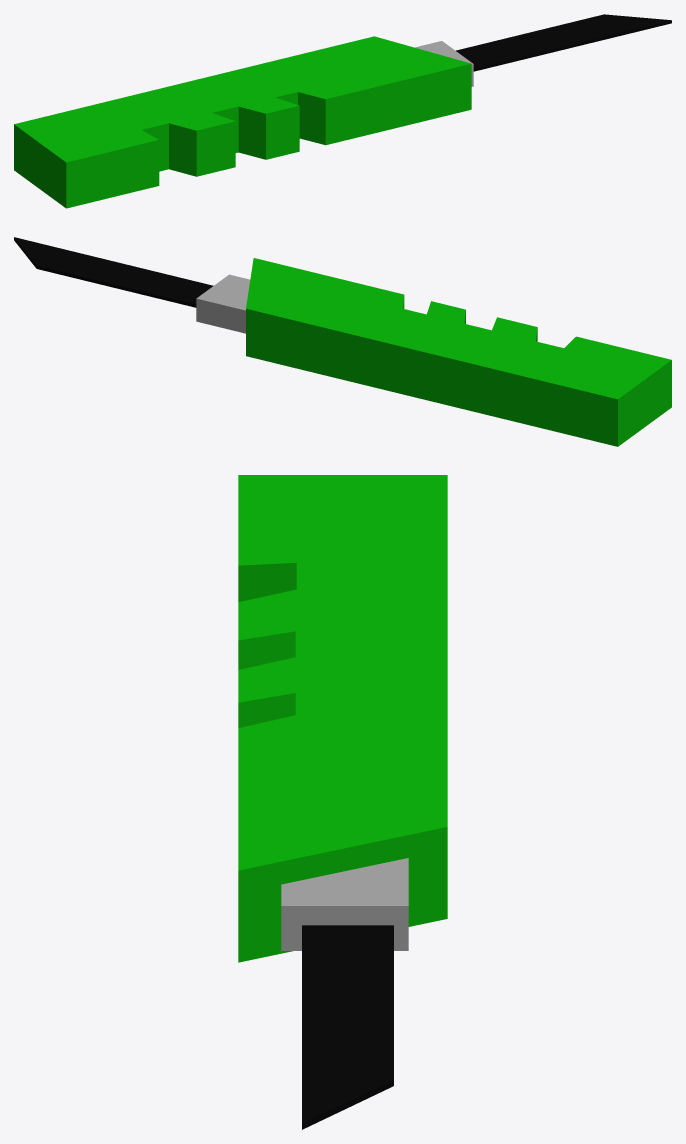
File: blade.fbx
3 renders of one model, top to bottom at view 1: azimuth 30°, elevation 25°; view 2: azimuth 150°, elevation 25°; view 3: azimuth 270°, elevation 25°, orthographic. The views are drawn at different scales.
Visible parts, largest first — view 1: blade; view 2: blade; view 3: blade.
Part boxes in pixels (box(x1,y1,x2,y2)): blade: box(14, 14, 671, 208); blade: box(14, 237, 671, 446); blade: box(238, 475, 447, 1129).
Size of the model in its own units: 16.81 by 1.19 by 2.45.
